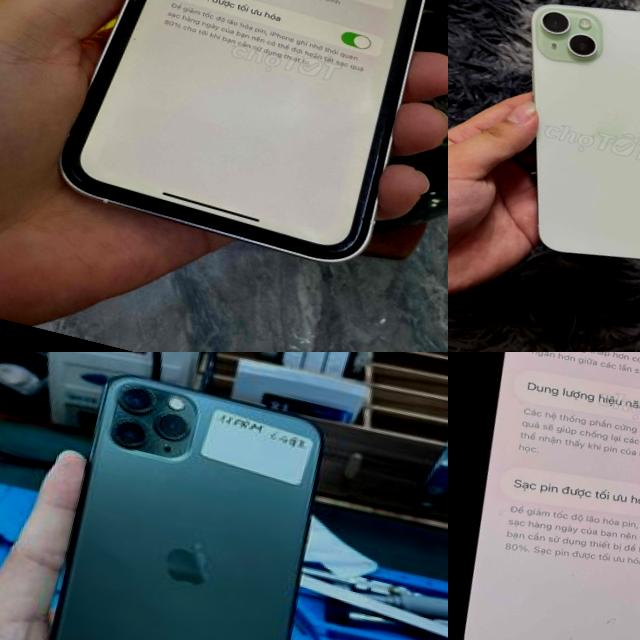gen_11: (1, 352, 369, 640)
gen_12_13: (448, 352, 640, 640)
gen_15: (473, 0, 640, 287)
gen_x_xs: (46, 0, 448, 277)
